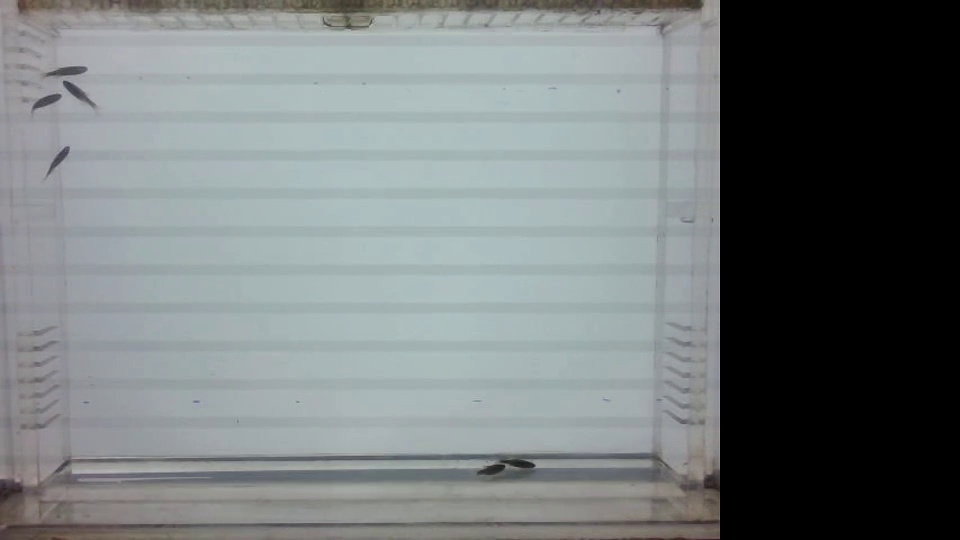fish: (36, 140, 73, 188), (56, 84, 100, 112), (38, 60, 92, 81), (24, 92, 60, 116), (500, 452, 540, 473), (473, 465, 508, 477)
